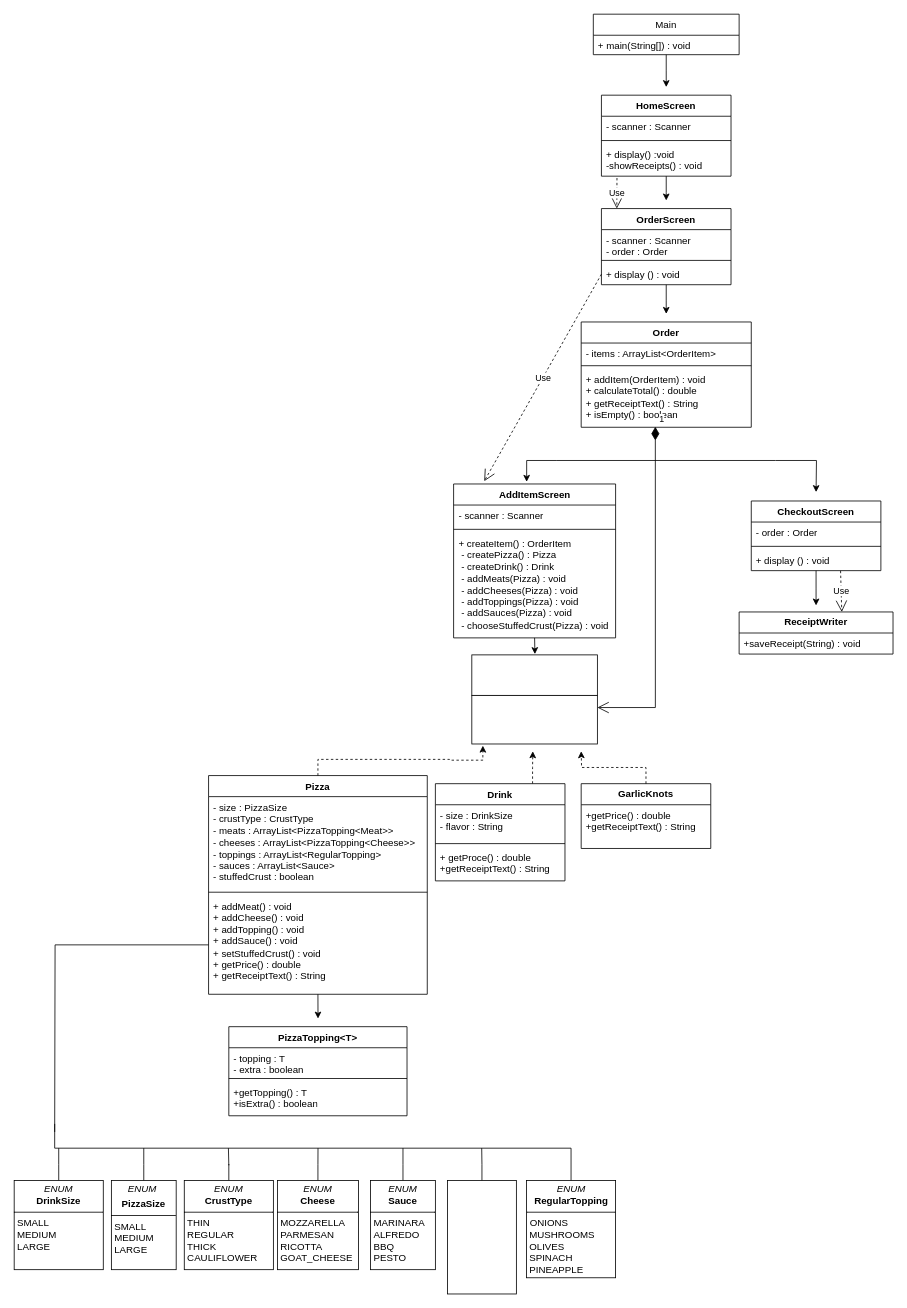
Some shapes in this 907 by 1308 pixel diagram are drawn without their labels. Here are the shapes that lost their labels. From the top down, the centre of each, then its label:
At (x=534, y=674): "«interface» OrderItem".
At (x=534, y=719): "+ getPrice() : double + getReceiptText() : String".
At (x=481, y=1237): "ENUM Meat PEPPERONI SAUSAGE HAM BACON CHICKEN MEATBALL".
